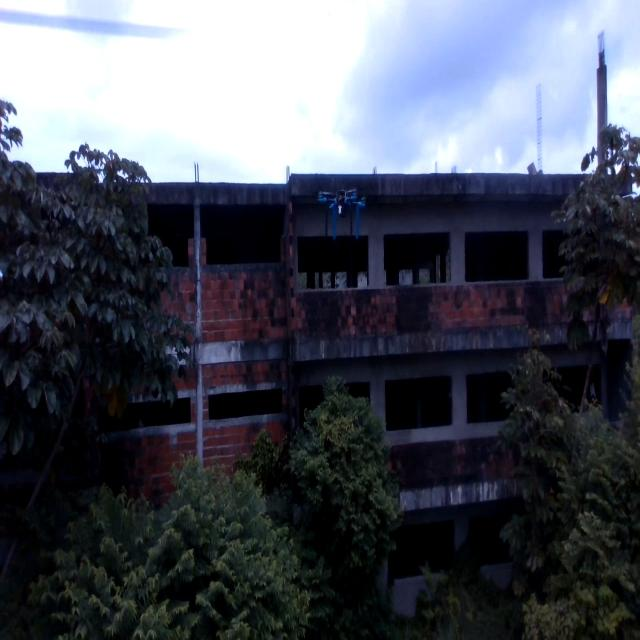-uav-: (316, 176, 382, 248)
